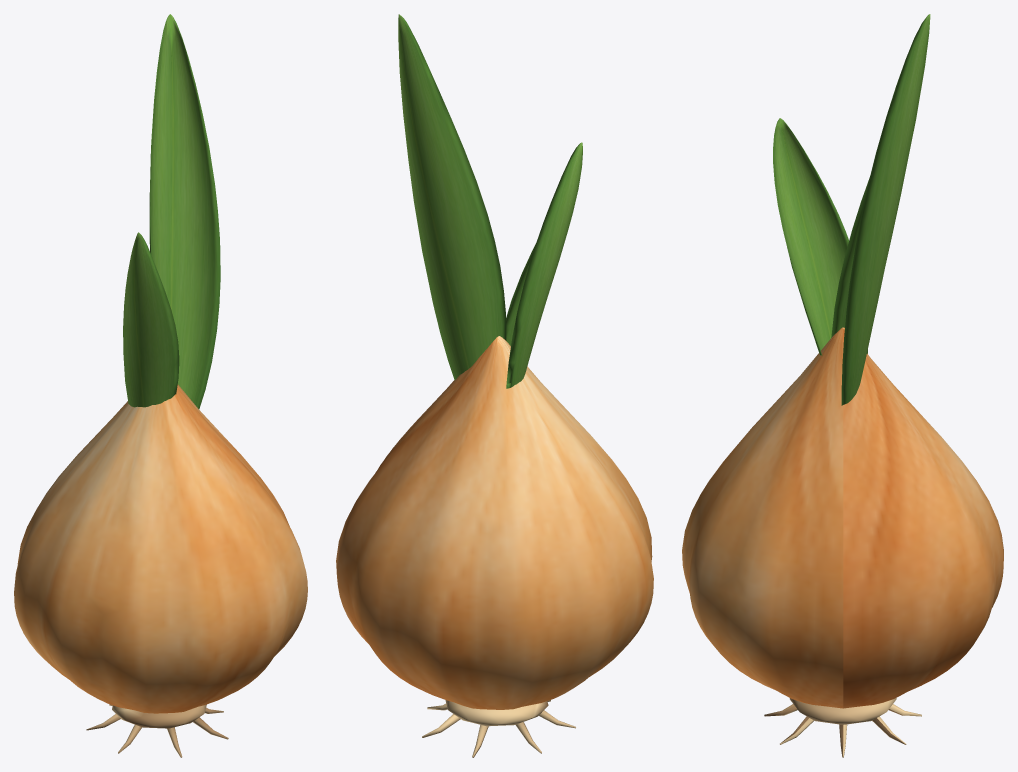
Rendered from NP_Tulip_Sprout_LOD1.fbx.
The picture shows the model from 3 angles, left to right: view 1: azimuth 30°, elevation 25°; view 2: azimuth 150°, elevation 25°; view 3: azimuth 270°, elevation 25°; orthographic projection. The views are drawn at different scales.
Visible parts, largest first — view 1: NP_Tulip_Sprout; view 2: NP_Tulip_Sprout; view 3: NP_Tulip_Sprout.
Part boxes in pixels (x1=…): NP_Tulip_Sprout: x1=14, y1=14, x2=307, y2=757; NP_Tulip_Sprout: x1=336, y1=14, x2=653, y2=757; NP_Tulip_Sprout: x1=682, y1=14, x2=1003, y2=757.
Size of the model in its own units: 20.4 by 51.46 by 20.38.
